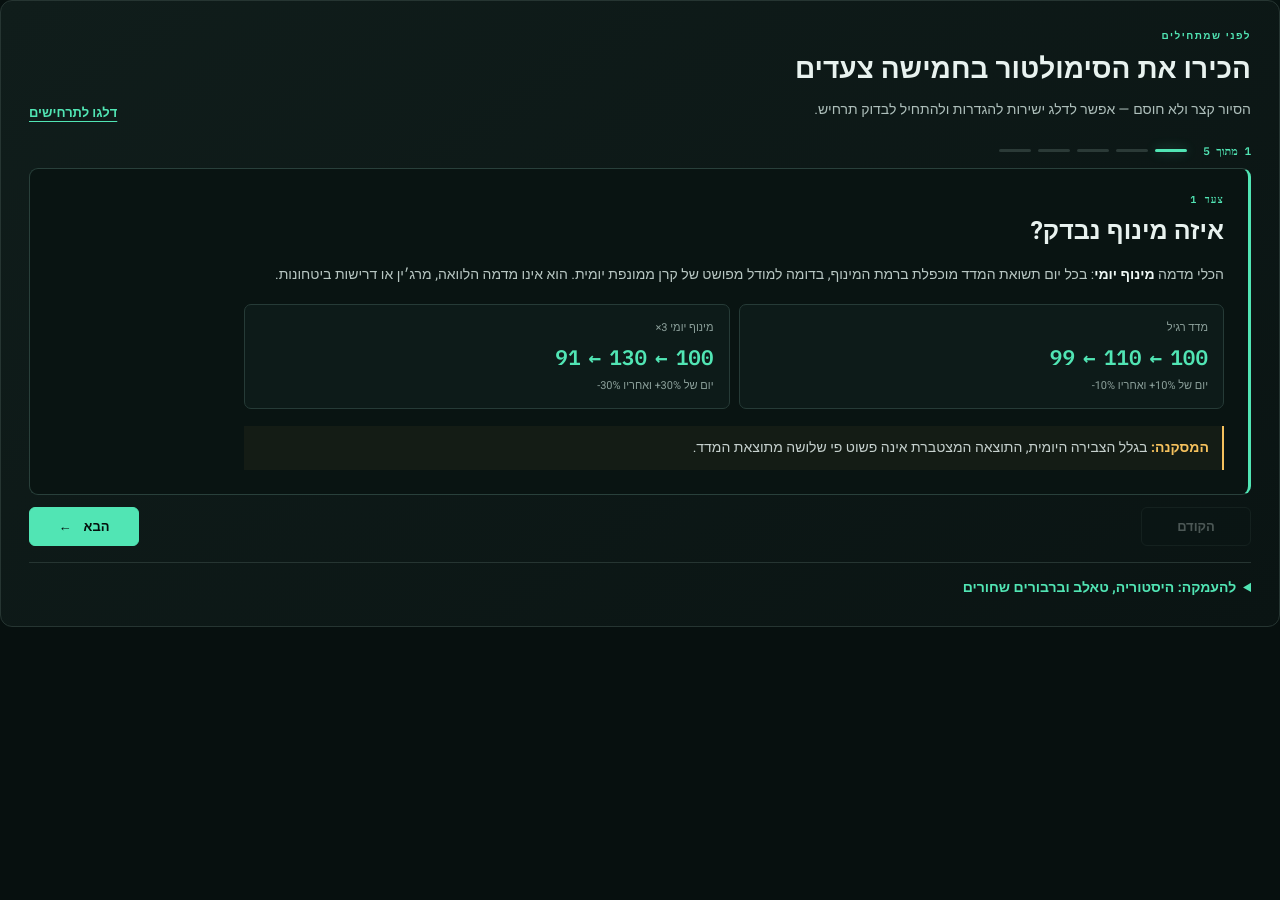
Test: SimulationTour › מוביל בין חמשת ההסברים ומבדיל בזהירות בין מונטה קרלו ל־Backtest
Click the button "הבא ←": click(84, 527) x1=29 y1=507 x2=139 y2=546
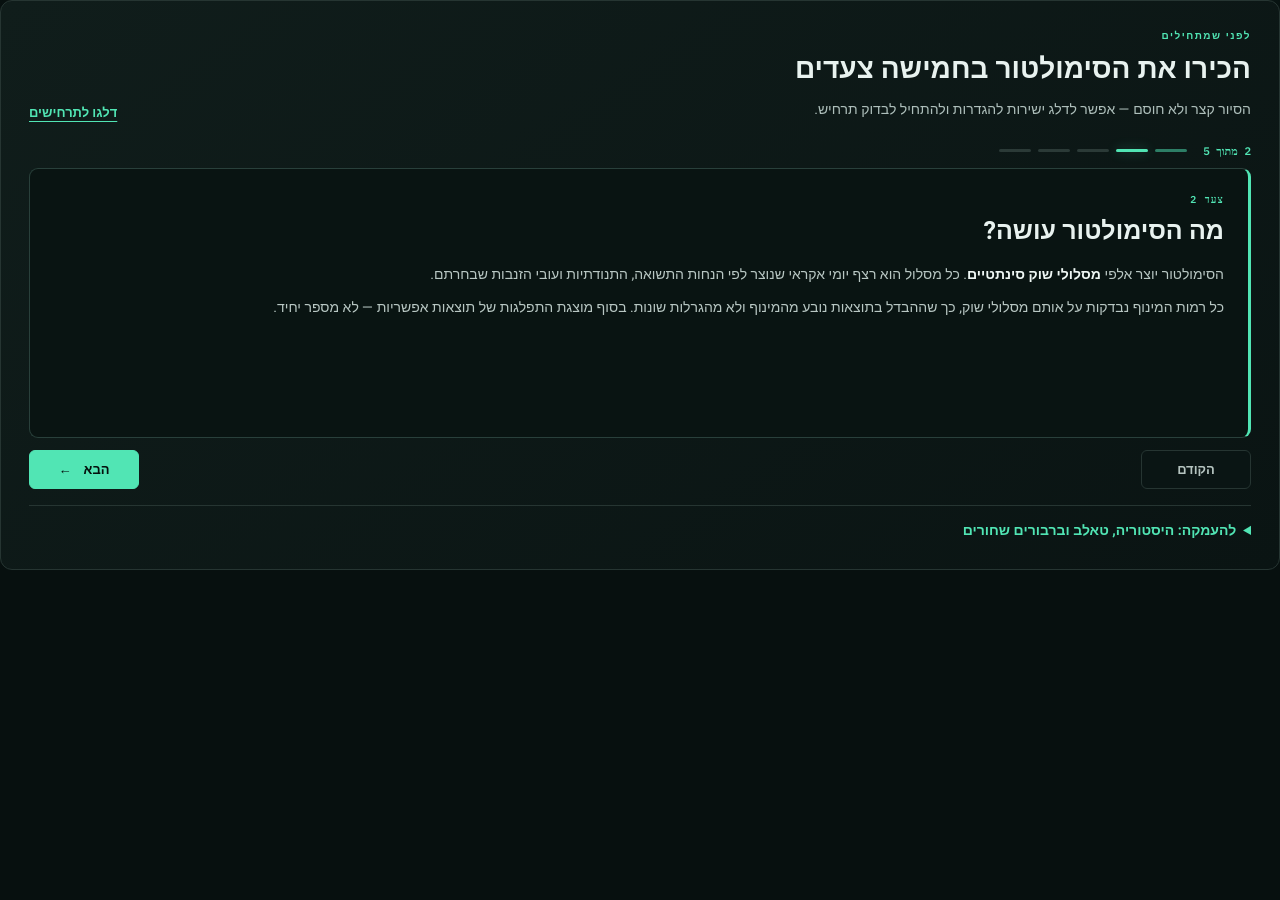
Result: the text "2 מתוך 5" is shown at x1=1203 y1=144 x2=1251 y2=158
Result: the heading "מה הסימולטור עושה?" is shown at x1=984 y1=213 x2=1224 y2=250
Result: the text "אותם מסלולי שוק" is shown at x1=273 y1=297 x2=1224 y2=318
Click the button "הבא ←": click(84, 469) x1=29 y1=450 x2=139 y2=489
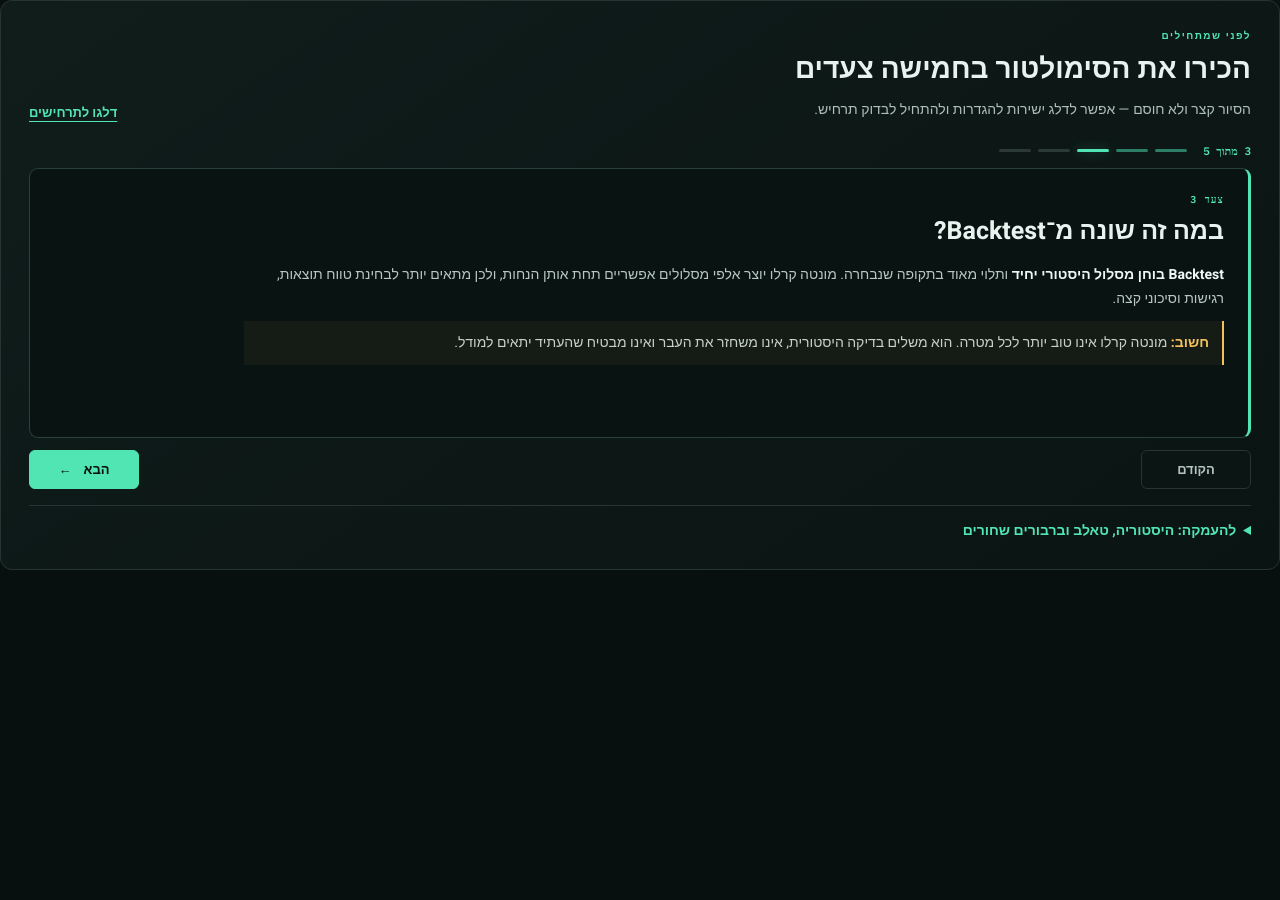
Result: the text "3 מתוך 5" is shown at x1=1203 y1=144 x2=1251 y2=158
Result: the heading "במה זה שונה מ־Backtest?" is shown at x1=934 y1=213 x2=1224 y2=250
Result: the text "Backtest בוחן מסלול היסטורי יחיד" is shown at x1=1012 y1=264 x2=1224 y2=285
Click the button "הבא ←": click(84, 469) x1=29 y1=450 x2=139 y2=489
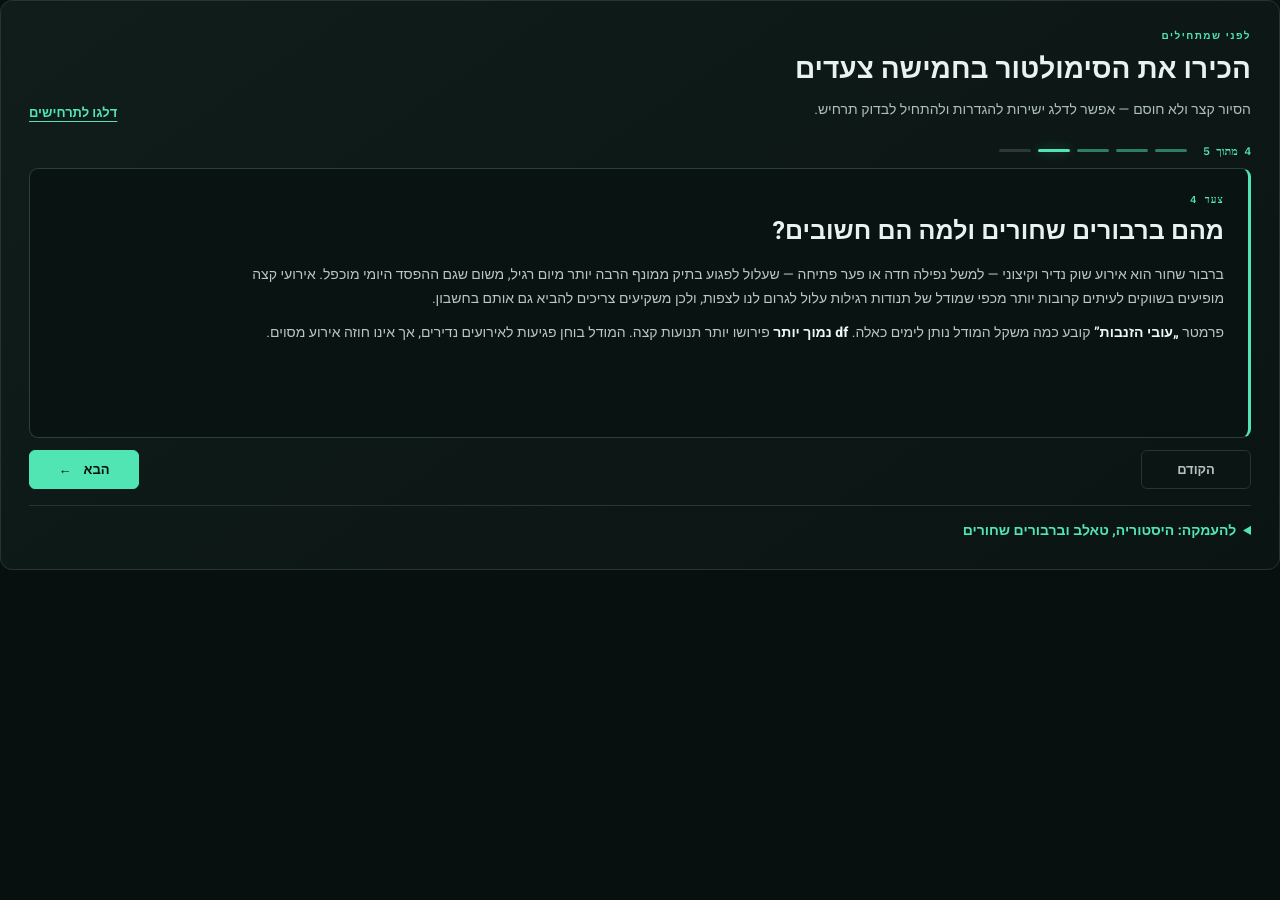
Result: the text "4 מתוך 5" is shown at x1=1203 y1=144 x2=1251 y2=158
Result: the heading "מהם ברבורים שחורים ולמה הם חשובים?" is shown at x1=772 y1=213 x2=1224 y2=250
Result: the element named "צעד 4 מתוך 5" shows "df נמוך יותר" at x1=29 y1=168 x2=1251 y2=438
Click the button "הבא ←": click(84, 469) x1=29 y1=450 x2=139 y2=489
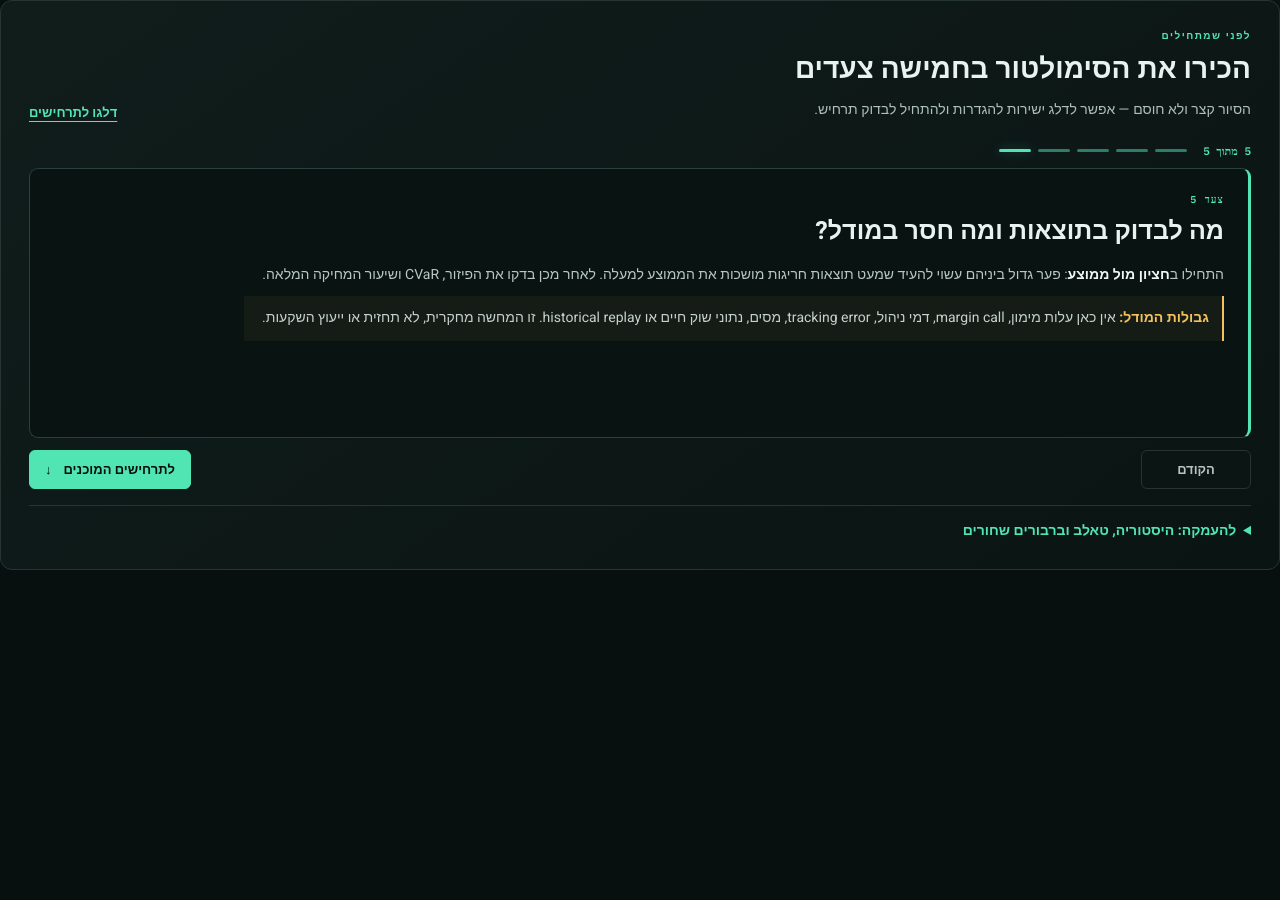
Result: the text "5 מתוך 5" is shown at x1=1203 y1=144 x2=1251 y2=158
Result: the heading "מה לבדוק בתוצאות ומה חסר במודל?" is shown at x1=815 y1=213 x2=1224 y2=250
Result: the text "חציון מול ממוצע" is shown at x1=1068 y1=264 x2=1170 y2=285
Click the button "הקודם": click(1196, 469) x1=1141 y1=450 x2=1251 y2=489
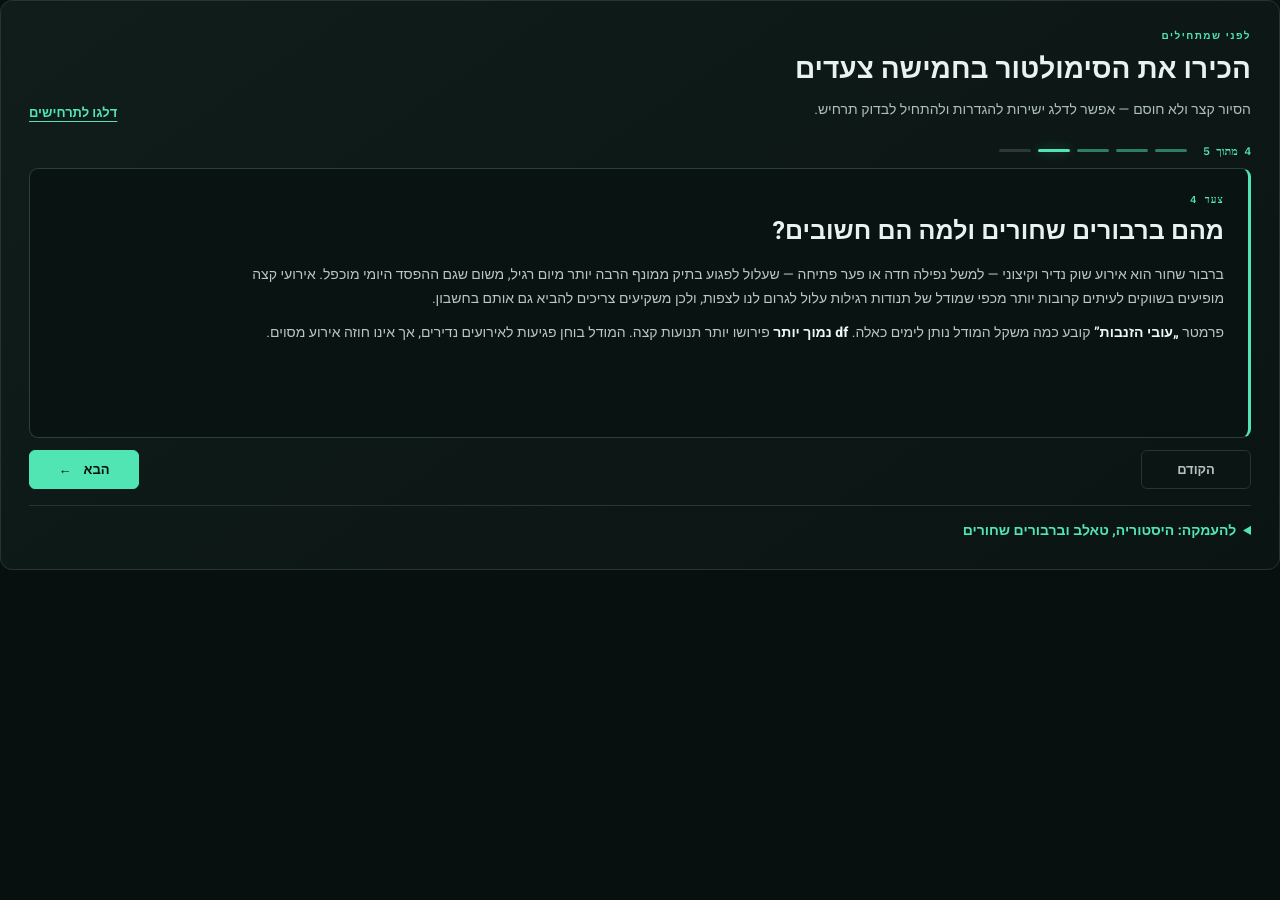
Result: the text "4 מתוך 5" is shown at x1=1203 y1=144 x2=1251 y2=158
